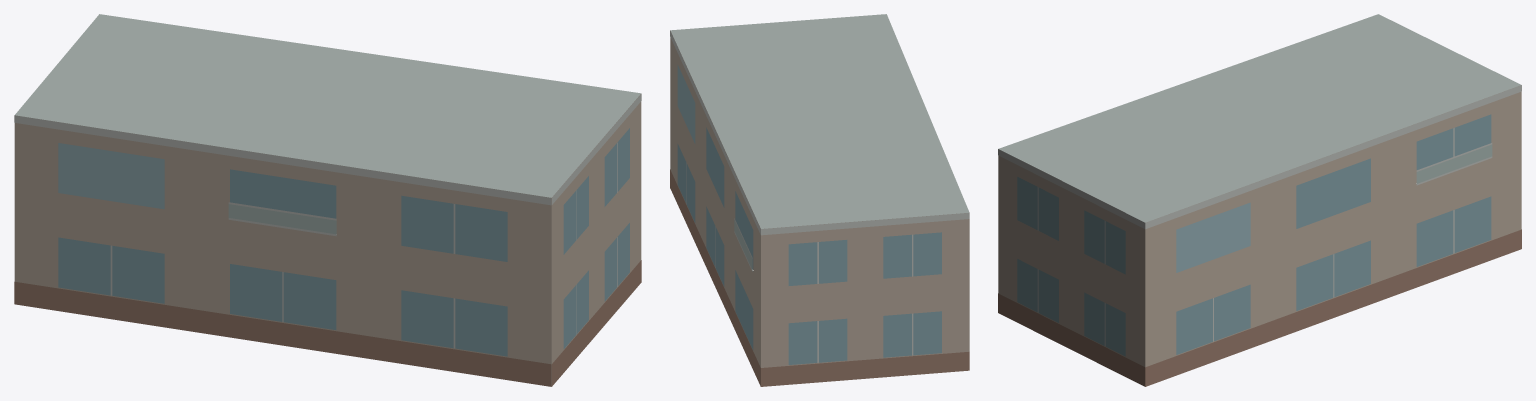
Rendered from survey-upis-32581199.glb.
The picture shows the model from 3 angles, left to right: view 1: azimuth 30°, elevation 25°; view 2: azimuth 150°, elevation 25°; view 3: azimuth 270°, elevation 25°; orthographic projection. The views are drawn at different scales.
Parts seen in each view (by area): view 1: survey-upis-32581199.tmp; view 2: survey-upis-32581199.tmp; view 3: survey-upis-32581199.tmp.
Part boxes in pixels (x1,y1,x2,y2): survey-upis-32581199.tmp: [14, 14, 641, 386]; survey-upis-32581199.tmp: [670, 14, 969, 386]; survey-upis-32581199.tmp: [998, 14, 1521, 386].
Bounding box in the file's own units: 16.65 × 6.1 × 17.64.
